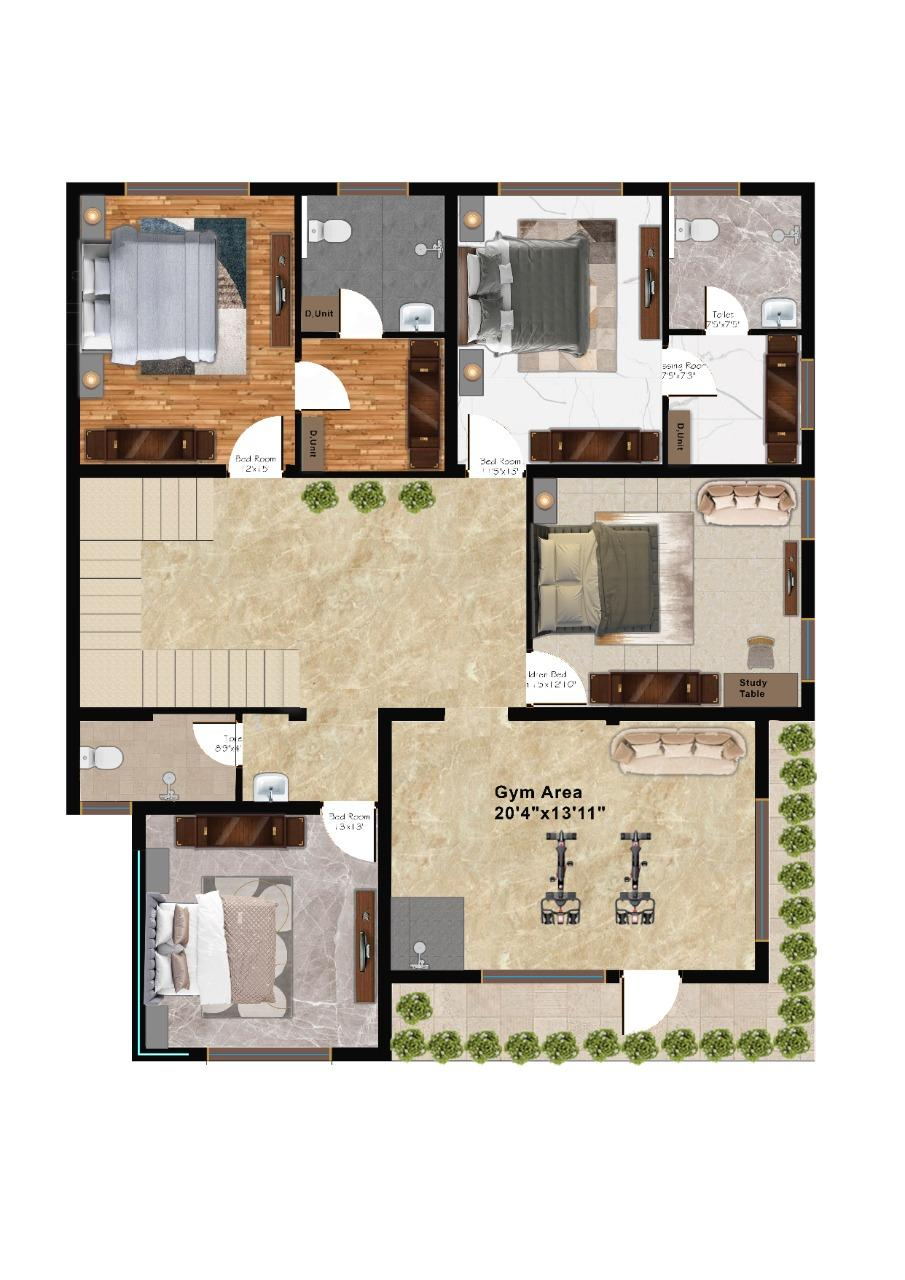room: (76, 473, 529, 712), (386, 714, 759, 977), (531, 472, 809, 713), (73, 188, 296, 472), (137, 804, 383, 1051), (451, 186, 663, 468), (296, 188, 451, 335), (298, 334, 452, 474), (665, 186, 809, 330), (666, 333, 807, 468), (77, 712, 237, 804)
